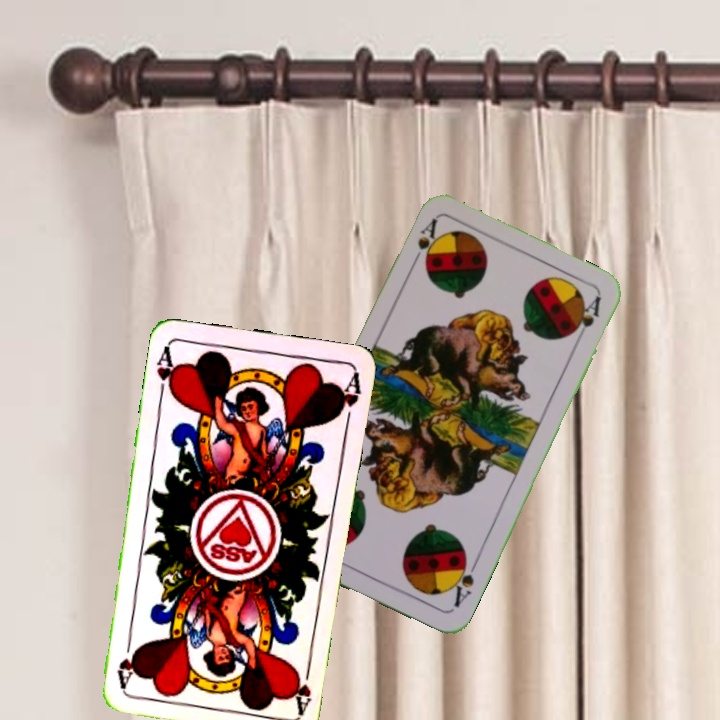HA: (152, 341, 180, 401), (289, 656, 314, 715)
SA: (446, 553, 481, 610), (407, 215, 440, 271)
